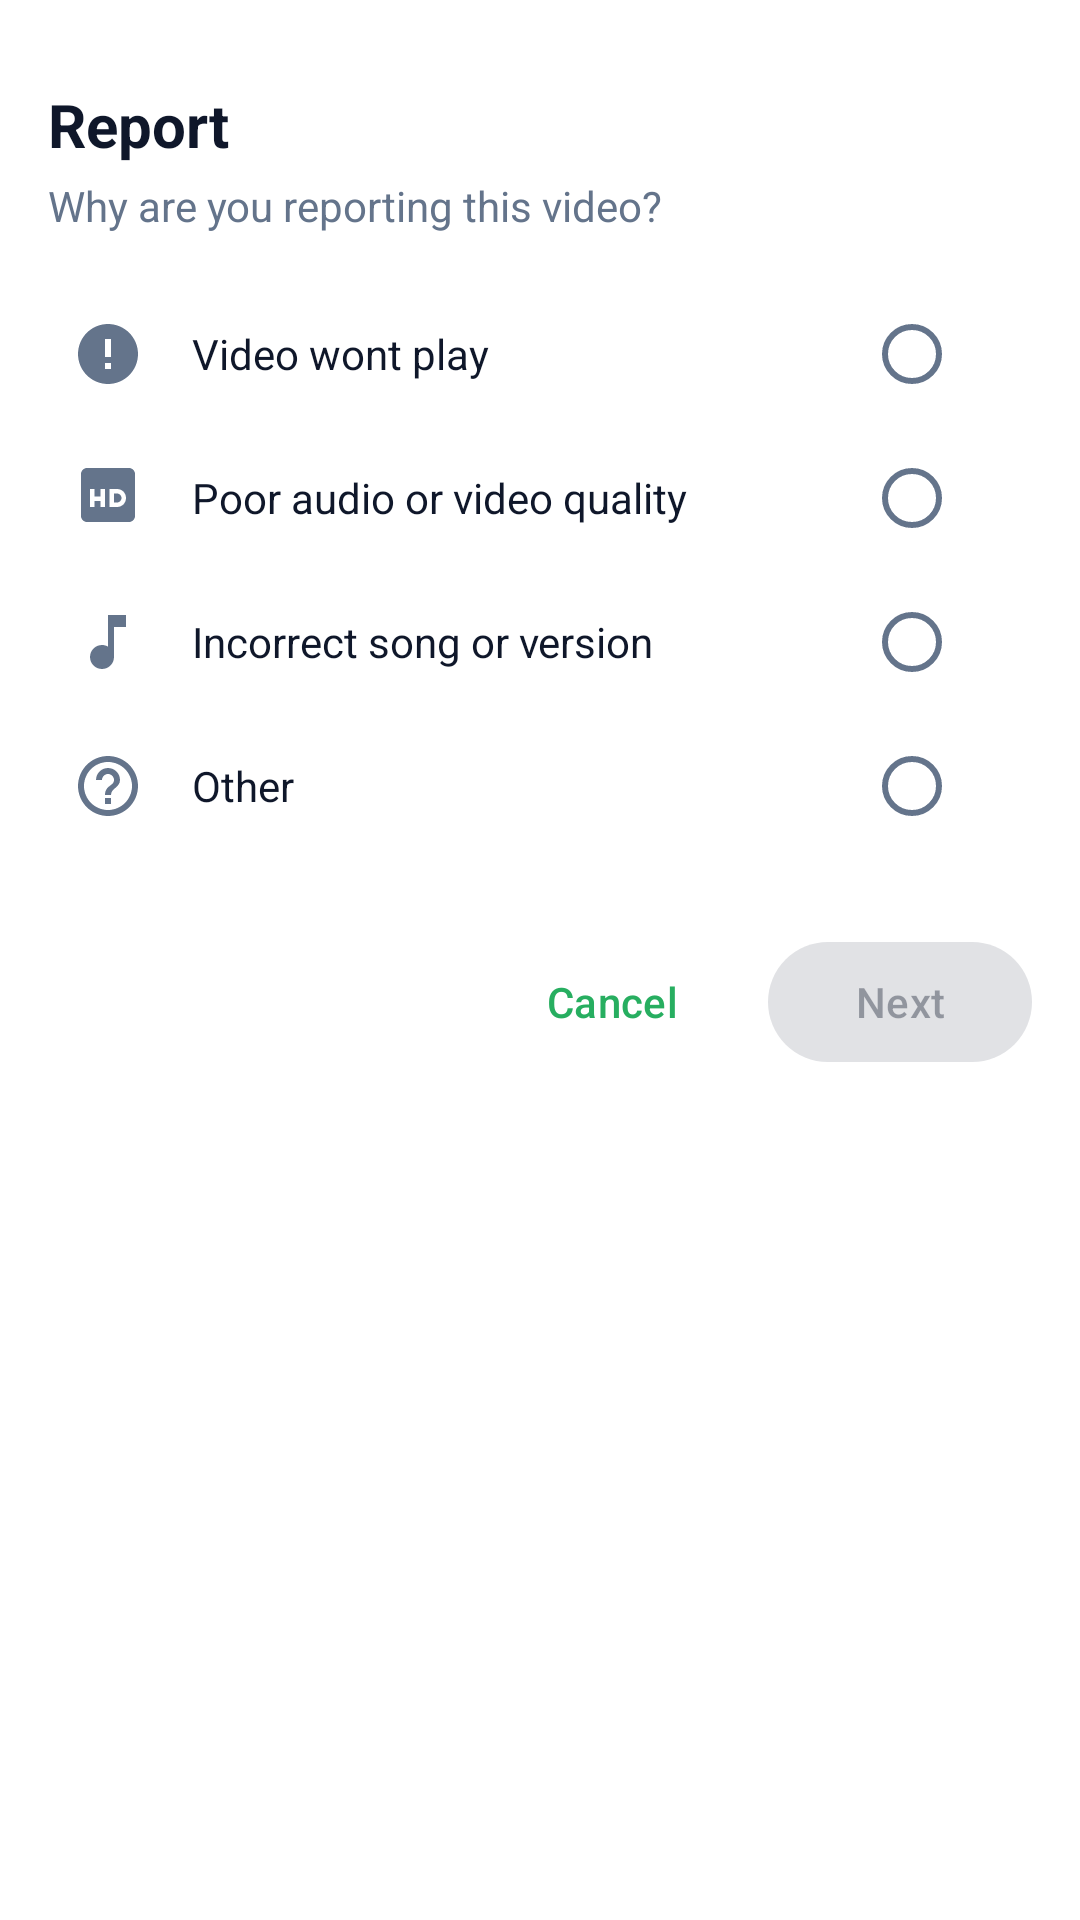

Screen size 1080px×1920px. Icon name, then its box in pixels as (x1, y1, x2, y2):
help: (78, 756, 138, 816)
warning circle: (78, 324, 138, 384)
